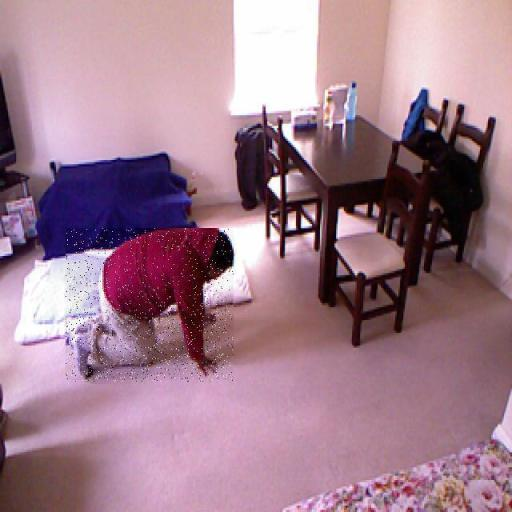Fall: (66, 229, 234, 382)
